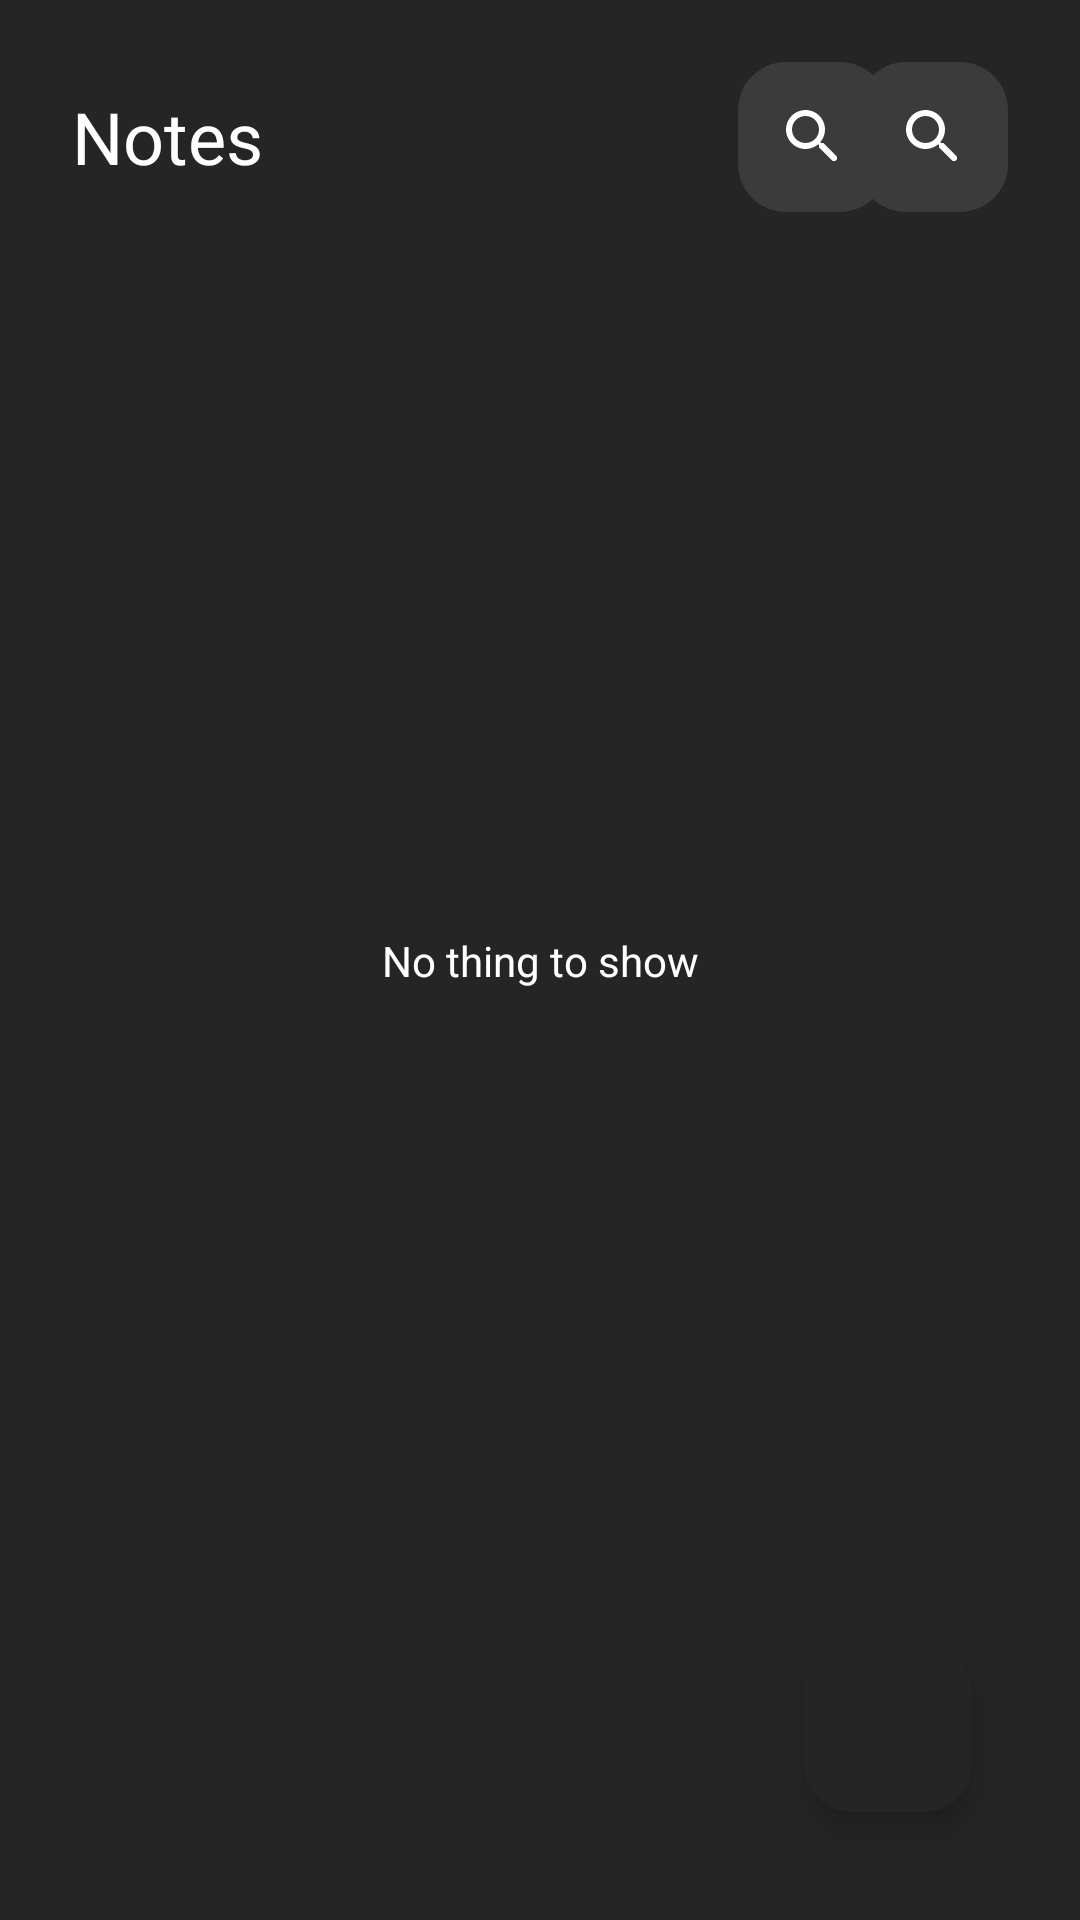

Where to tap for icons on this 1080w x 1920h app screen, as point (x, y):
find: point (813, 137), point (933, 137)
